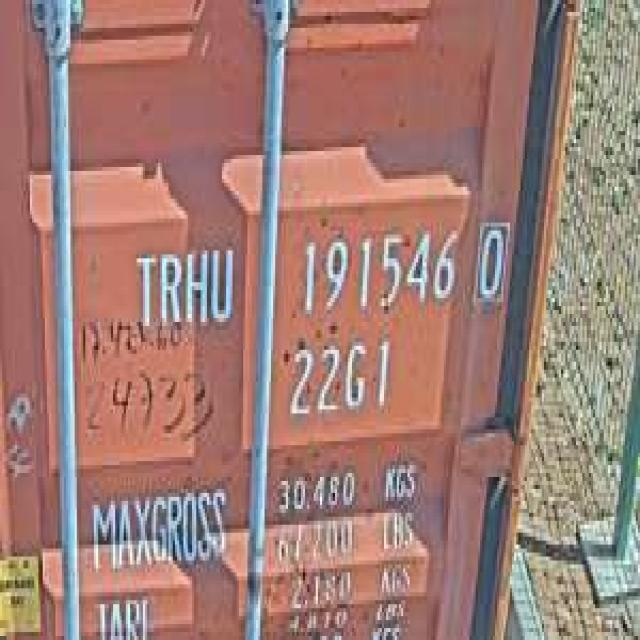dv: (469, 207, 512, 306)
owner: (136, 230, 237, 338)
serial: (294, 219, 461, 322)
size: (284, 330, 392, 421)
